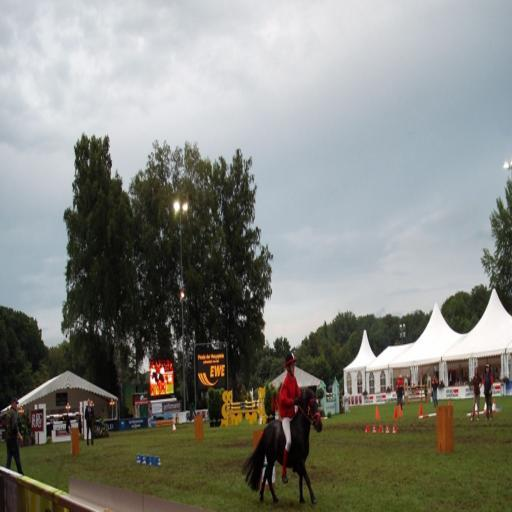horse: (242, 386, 324, 507)
